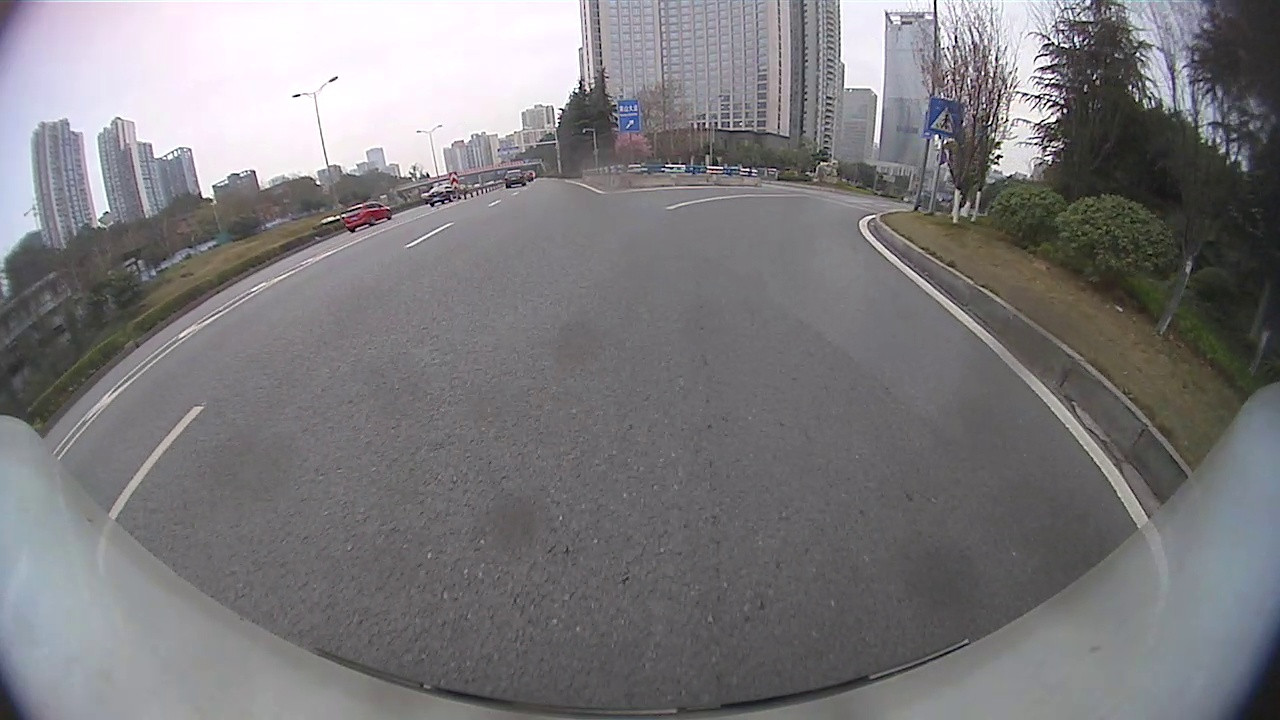car: (342, 199, 392, 233), (428, 184, 459, 207), (504, 168, 527, 188)
